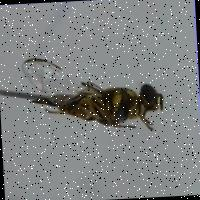Oriental-fruit-fly: (20, 50, 178, 155)
